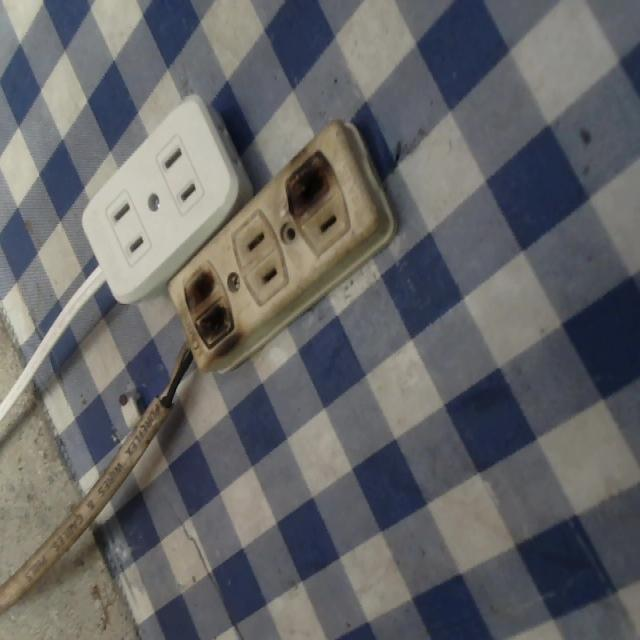-: (180, 264, 238, 349), (284, 151, 333, 216)
